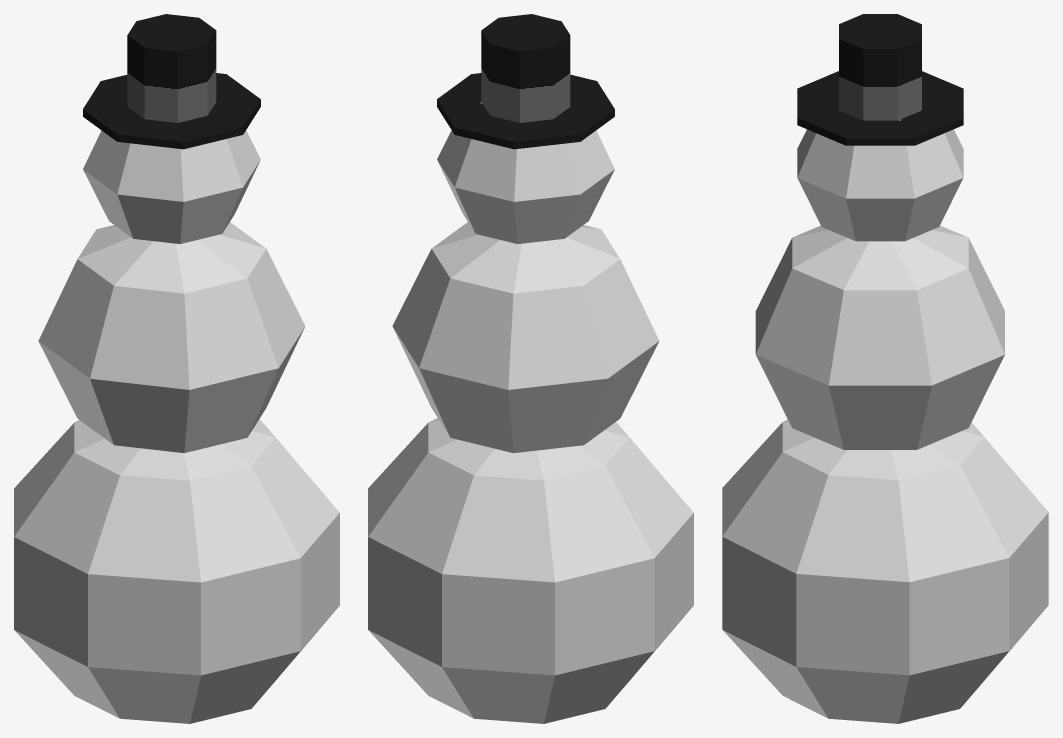
File: snowman3.obj
3 views of the same model, side by side, from view 1: azimuth 30°, elevation 25°; view 2: azimuth 150°, elevation 25°; view 3: azimuth 270°, elevation 25° (orthographic).
Visible parts, largest first — view 1: sphere, cylinder; view 2: sphere, cylinder; view 3: sphere, cylinder.
Part boxes in pixels (<box>): sphere: <box>14,130,339,723</box>; cylinder: <box>83,14,260,149</box>; sphere: <box>368,130,693,723</box>; cylinder: <box>437,14,614,149</box>; sphere: <box>722,129,1048,723</box>; cylinder: <box>797,14,963,145</box>.
Bounding box in the file's own units: 0.9967 × 2.25 × 0.9816.
1 material, 1 textured.
